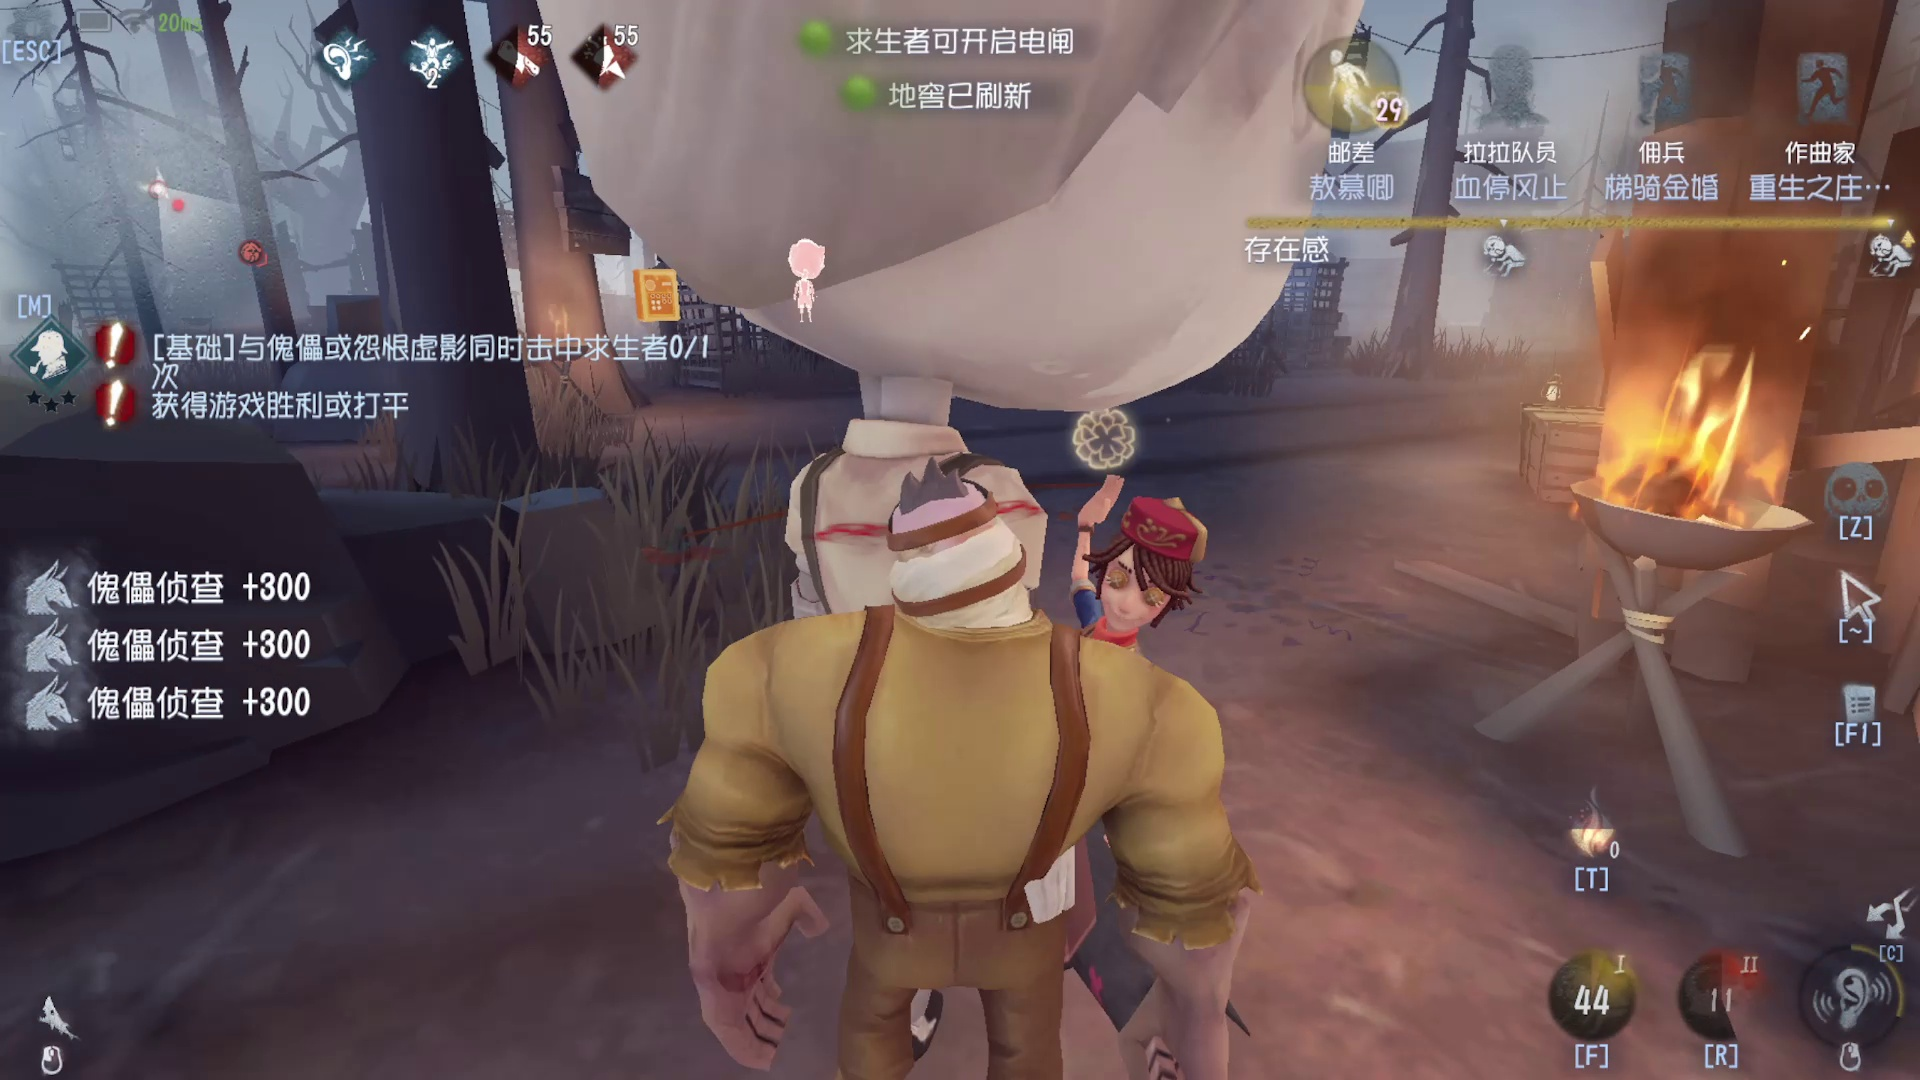求生者: (1062, 458, 1217, 655)
设置: (1, 1, 87, 88)
